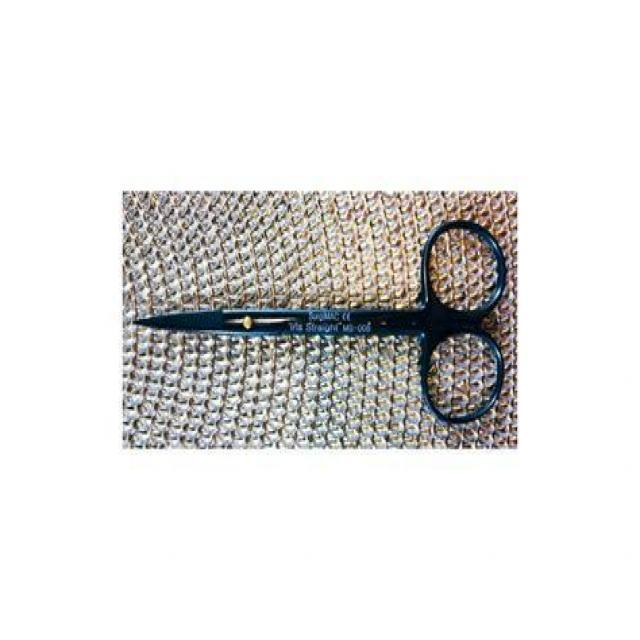Iris: (127, 213, 510, 429)
